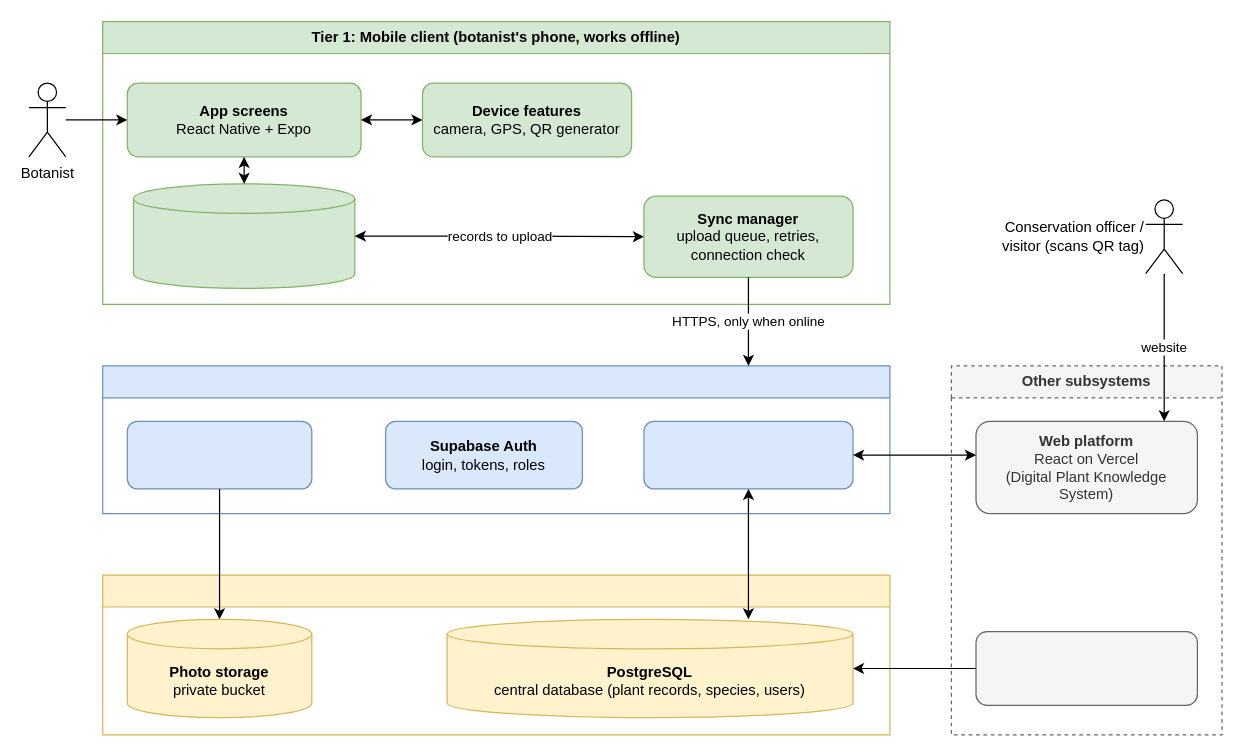
The diagram is 1244 pixels wide and 756 high, and some of its shapes have lost their labels. The box of each missing label's shape, as (x1, y1, x2, y2) in pixels:
IoT monitoring dashboard: (975, 630, 1197, 705)
Local database SQLite: (132, 183, 355, 288)
REST API Row Level Security: (643, 420, 853, 489)
Storage API photo uploads: (126, 420, 312, 489)
Tier 2: Cloud services (Supabase): (101, 365, 890, 514)
Tier 3: Central data (Supabase): (101, 574, 890, 735)
